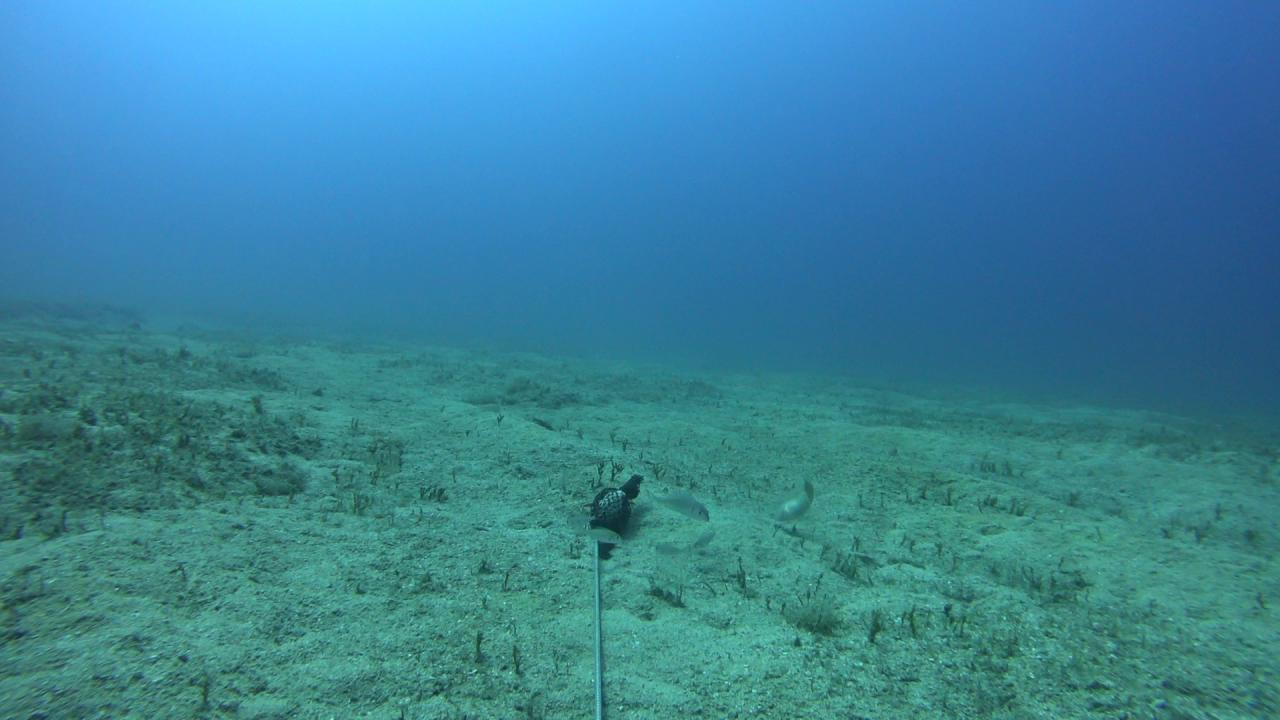pagellus: (642, 488, 710, 523), (580, 529, 625, 547), (654, 542, 691, 559), (692, 528, 716, 552), (568, 511, 594, 531)
